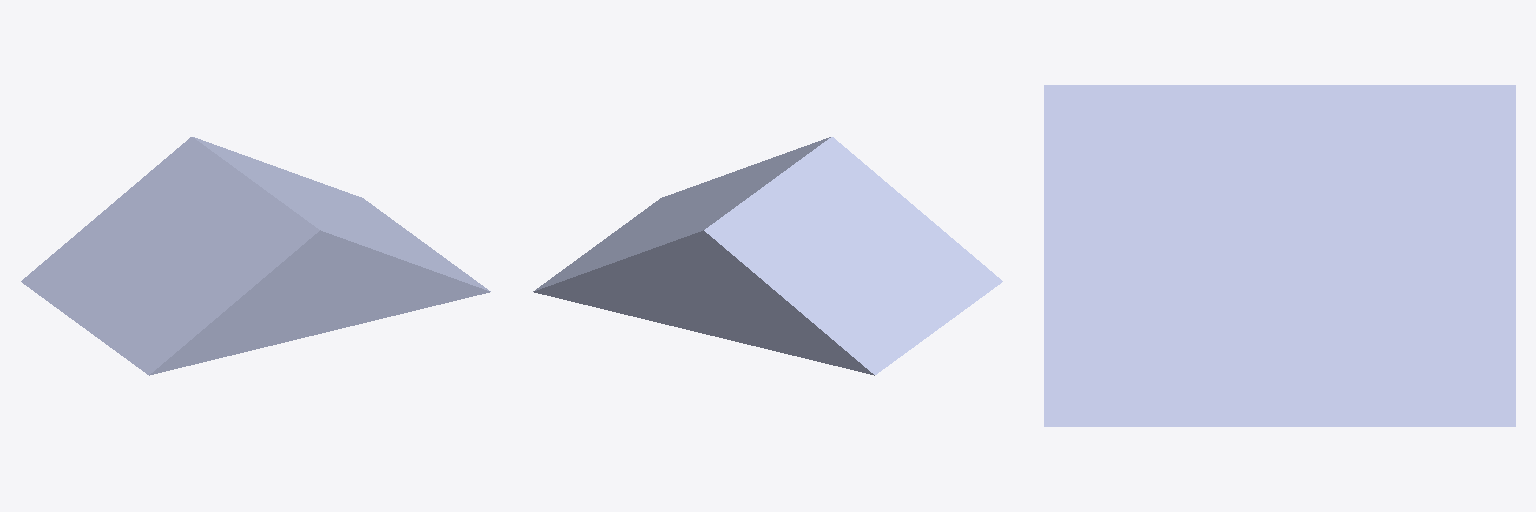
The robot description file, URDF, robot "chess":
<?xml version="1.0" encoding="utf-8"?>
<!-- This URDF was automatically created by SolidWorks to URDF Exporter! Originally created by [author] ([email redacted]) 
     Commit Version: 1.6.0-4-g7f85cfe  Build Version: 1.6.7995.38578
     For more information, please see http://wiki.ros.org/sw_urdf_exporter -->
<robot
  name="chess">
  <link
    name="base_link">
    <inertial>
      <origin
        xyz="0.01738311 0 -0.01477892"
        rpy="0 0 0" />
      <mass
        value="6.4102" />
      <inertia
        ixx="0.04504572"
        ixy="0"
        ixz="5.675E-05"
        iyy="0.0495762"
        iyz="0"
        izz="0.08445578" />
    </inertial>
    <visual>
      <origin
        xyz="0 0 0"
        rpy="0 0 0" />
      <geometry>
        <mesh
          filename="package://chess/meshes/base_link.STL" />
      </geometry>
      <material
        name="">
        <color
          rgba="0.79216 0.81961 0.93333 1" />
      </material>
    </visual>
    <collision>
      <origin
        xyz="0 0 0"
        rpy="0 0 0" />
      <geometry>
        <mesh
          filename="package://chess/meshes/base_link.STL" />
      </geometry>
    </collision>
  </link>
  <link
    name="black_Link">
    <inertial>
      <origin
        xyz="0.15007 -0.038342 0.06"
        rpy="0 0 0" />
      <mass
        value="0.324" />
      <inertia
        ixx="0.00207413"
        ixy="-0.00159058"
        ixz="0"
        iyy="0.00396126"
        iyz="0"
        izz="0.00413999" />
    </inertial>
    <visual>
      <origin
        xyz="0 0 0"
        rpy="0 0 0" />
      <geometry>
        <mesh
          filename="package://chess/meshes/black_Link.STL" />
      </geometry>
      <material
        name="">
        <color
          rgba="0.79216 0.81961 0.93333 1" />
      </material>
    </visual>
    <collision>
      <origin
        xyz="0 0 0"
        rpy="0 0 0" />
      <geometry>
        <mesh
          filename="package://chess/meshes/black_Link.STL" />
      </geometry>
    </collision>
  </link>
         <gazebo reference="black_Link">
  <material>Gazebo/Black</material>
  <turnGravityOff>false</turnGravityOff>
</gazebo>
<gazebo reference="base_Link">
  <material>Gazebo/White</material>
  <turnGravityOff>false</turnGravityOff>
</gazebo>
  <joint
    name="joint1"
    type="fixed">
    <origin
      xyz="-0.147236802820961 0.0599999999999999 -0.0401471522118938"
      rpy="1.5707963267949 -0.5235987755983 0" />
    <parent
      link="base_link" />
    <child
      link="black_Link" />
    <axis
      xyz="0 0 0" />
  </joint>
</robot>

--- Facts derived from the render (not from the file) ---
Views: 3 orthographic renders of the robot side by side, from view 1: azimuth 30°, elevation 25°; view 2: azimuth 150°, elevation 25°; view 3: azimuth 270°, elevation 25°.
Model chess with 2 links and 1 joints (1 fixed), rooted at base_link, posed all joints at 0.
Links seen in each view (by area): view 1: base_link, black_Link; view 2: base_link, black_Link; view 3: base_link, black_Link.
Boxes of the visible links, left/top/right/bottom form: base_link: left=21, top=137, right=490, bottom=375; black_Link: left=71, top=165, right=439, bottom=335; base_link: left=533, top=137, right=1002, bottom=375; black_Link: left=584, top=165, right=952, bottom=335; base_link: left=1044, top=85, right=1515, bottom=426; black_Link: left=1149, top=127, right=1410, bottom=384.
Size in the robot's own frame: 0.4157 by 0.27 by 0.12 metres.
Meshes: 2 distinct files referenced, 2 mesh visuals loaded (2 binary STL).